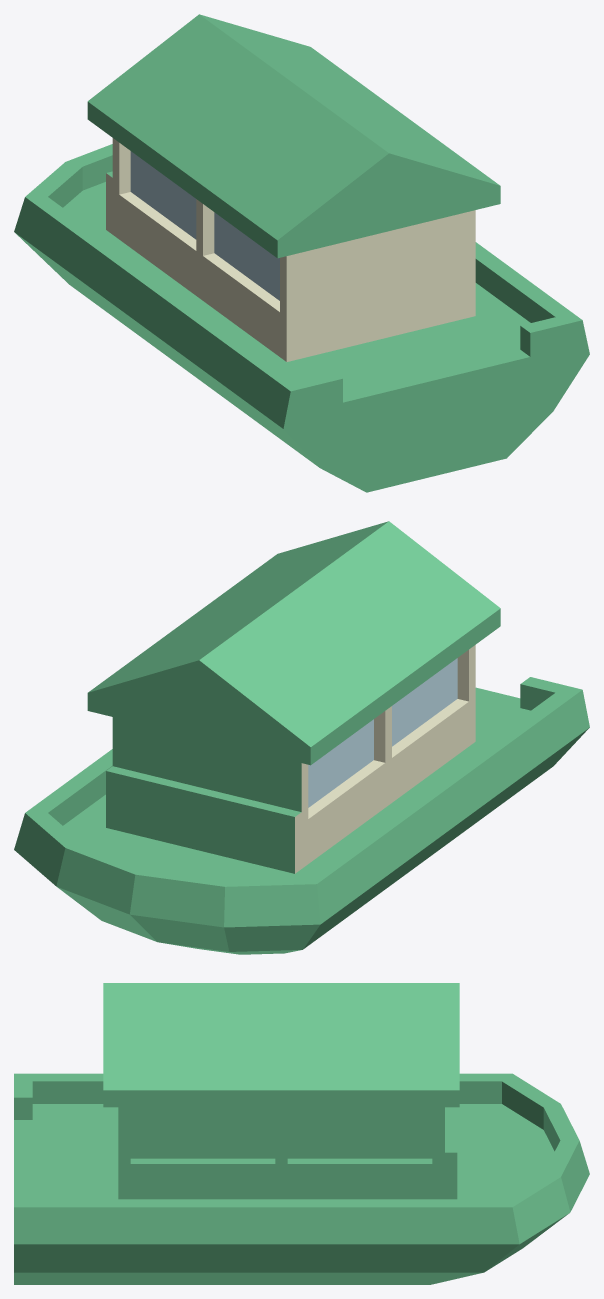
Rendered from boat_025.fbx.
3 views of the same model, one above another, from view 1: azimuth 30°, elevation 25°; view 2: azimuth 150°, elevation 25°; view 3: azimuth 270°, elevation 25° (orthographic). The views are drawn at different scales.
Visible parts, largest first — view 1: boat_025; view 2: boat_025; view 3: boat_025.
Part boxes in pixels (x1,y1,x2,y2): boat_025: (14,14,589,492); boat_025: (14,521,589,954); boat_025: (14,983,589,1284).
Bounding box in the file's own units: 26.77 × 24 × 46.44.
